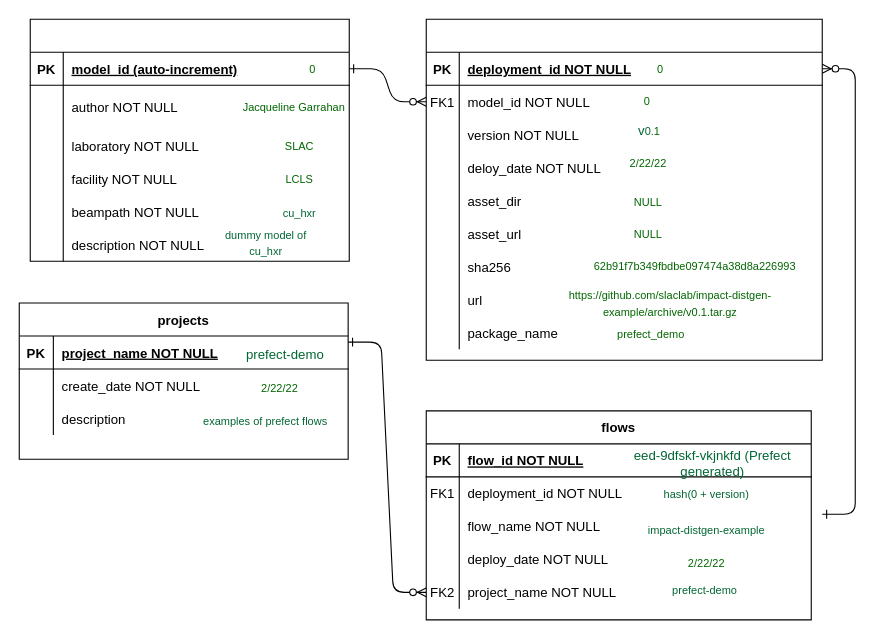
The diagram is 884 pixels wide and 639 high, and some of its shapes have lost their labels. Here are the shapes that lost their labels. From the top down, the box of each, then its label:
(29, 18, 349, 261): models
(425, 18, 822, 360): model_versions
